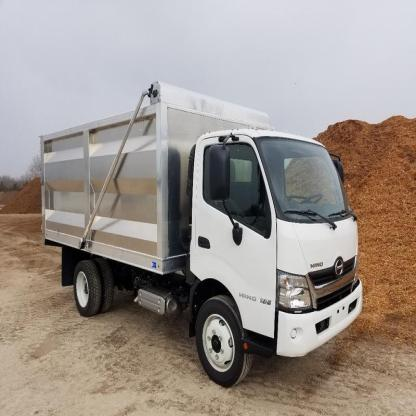dump_truck: (36, 67, 380, 390)
